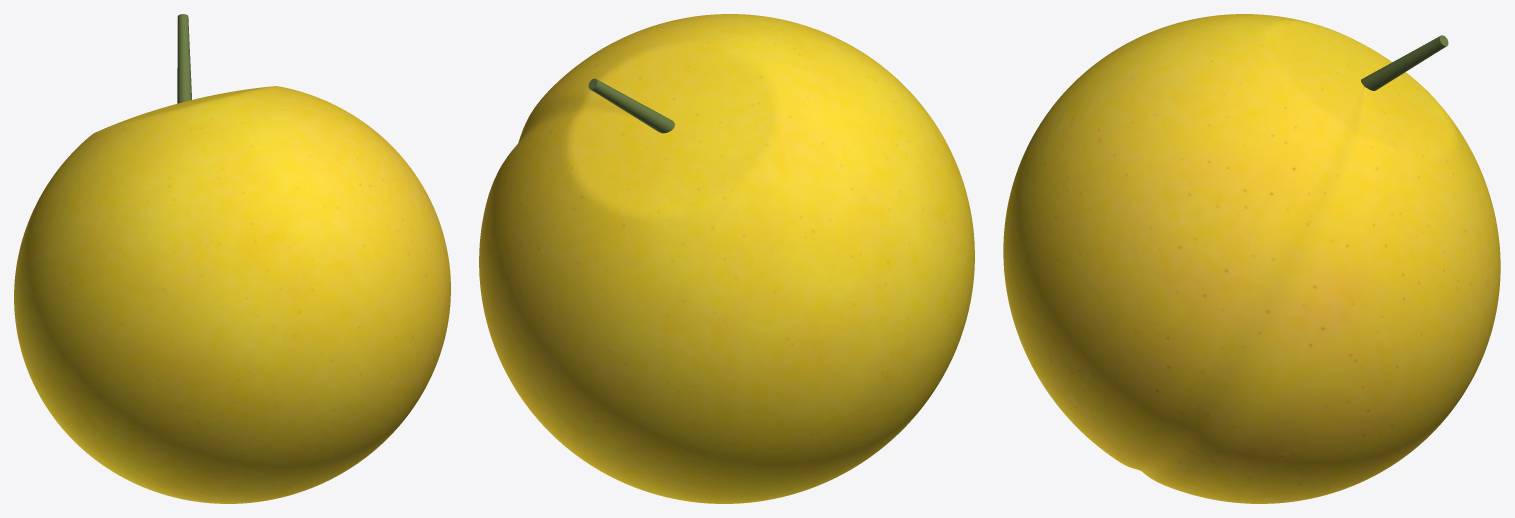
The model's file is mirabelle.glb.
3 renders of one model, left to right at view 1: azimuth 30°, elevation 25°; view 2: azimuth 150°, elevation 25°; view 3: azimuth 270°, elevation 25°, orthographic. The views are drawn at different scales.
Parts seen in each view (by area): view 1: mirabelle; view 2: mirabelle; view 3: mirabelle.
Boxes of the visible parts, left/top/right/bottom form: mirabelle: left=14, top=14, right=450, bottom=503; mirabelle: left=479, top=14, right=974, bottom=503; mirabelle: left=1003, top=14, right=1500, bottom=503.
Size of the model in its own units: 1.95 by 2 by 1.95.
2 materials, 1 textured.
